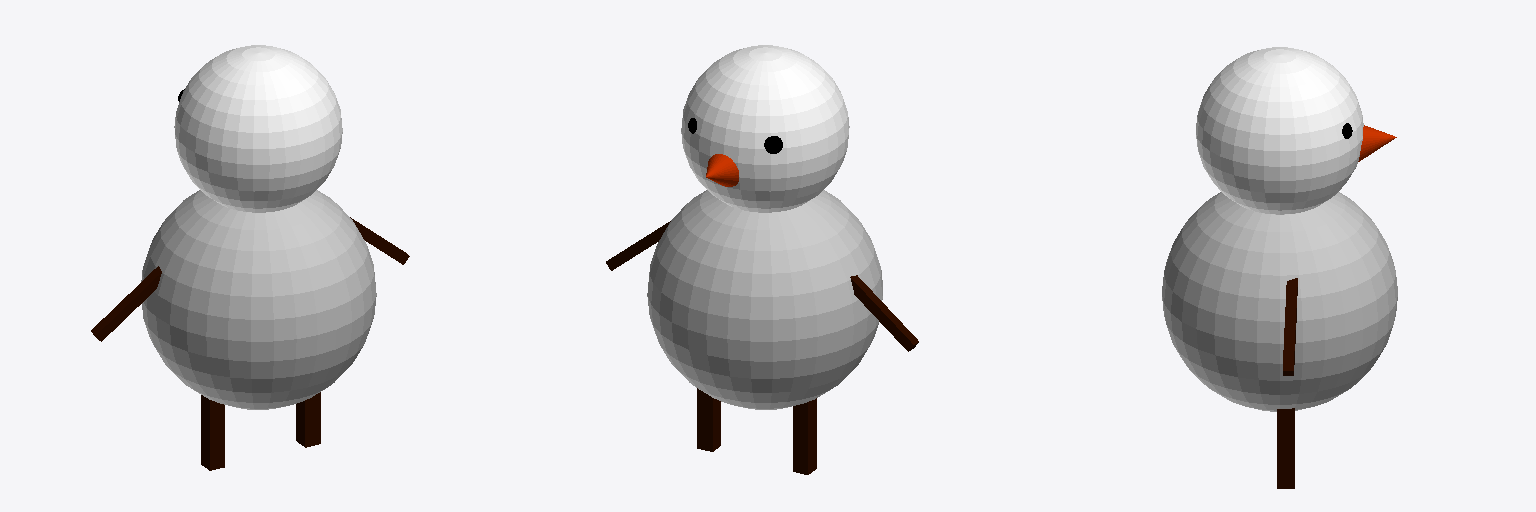
Rendered from snowman.obj.
3 renders of one model, left to right at view 1: azimuth 30°, elevation 25°; view 2: azimuth 150°, elevation 25°; view 3: azimuth 270°, elevation 25°, orthographic.
Visible parts, largest first — view 1: Snowman; view 2: Snowman; view 3: Snowman.
Boxes of the visible parts, x1=… form: Snowman: x1=91, y1=45, x2=409, y2=470; Snowman: x1=606, y1=45, x2=918, y2=474; Snowman: x1=1162, y1=47, x2=1397, y2=488.
Size of the model in its own units: 7.31 by 9.08 by 4.81.